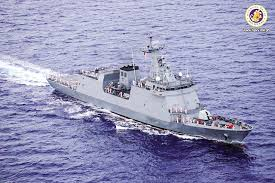tau_muctieu: (51, 50, 249, 147)
